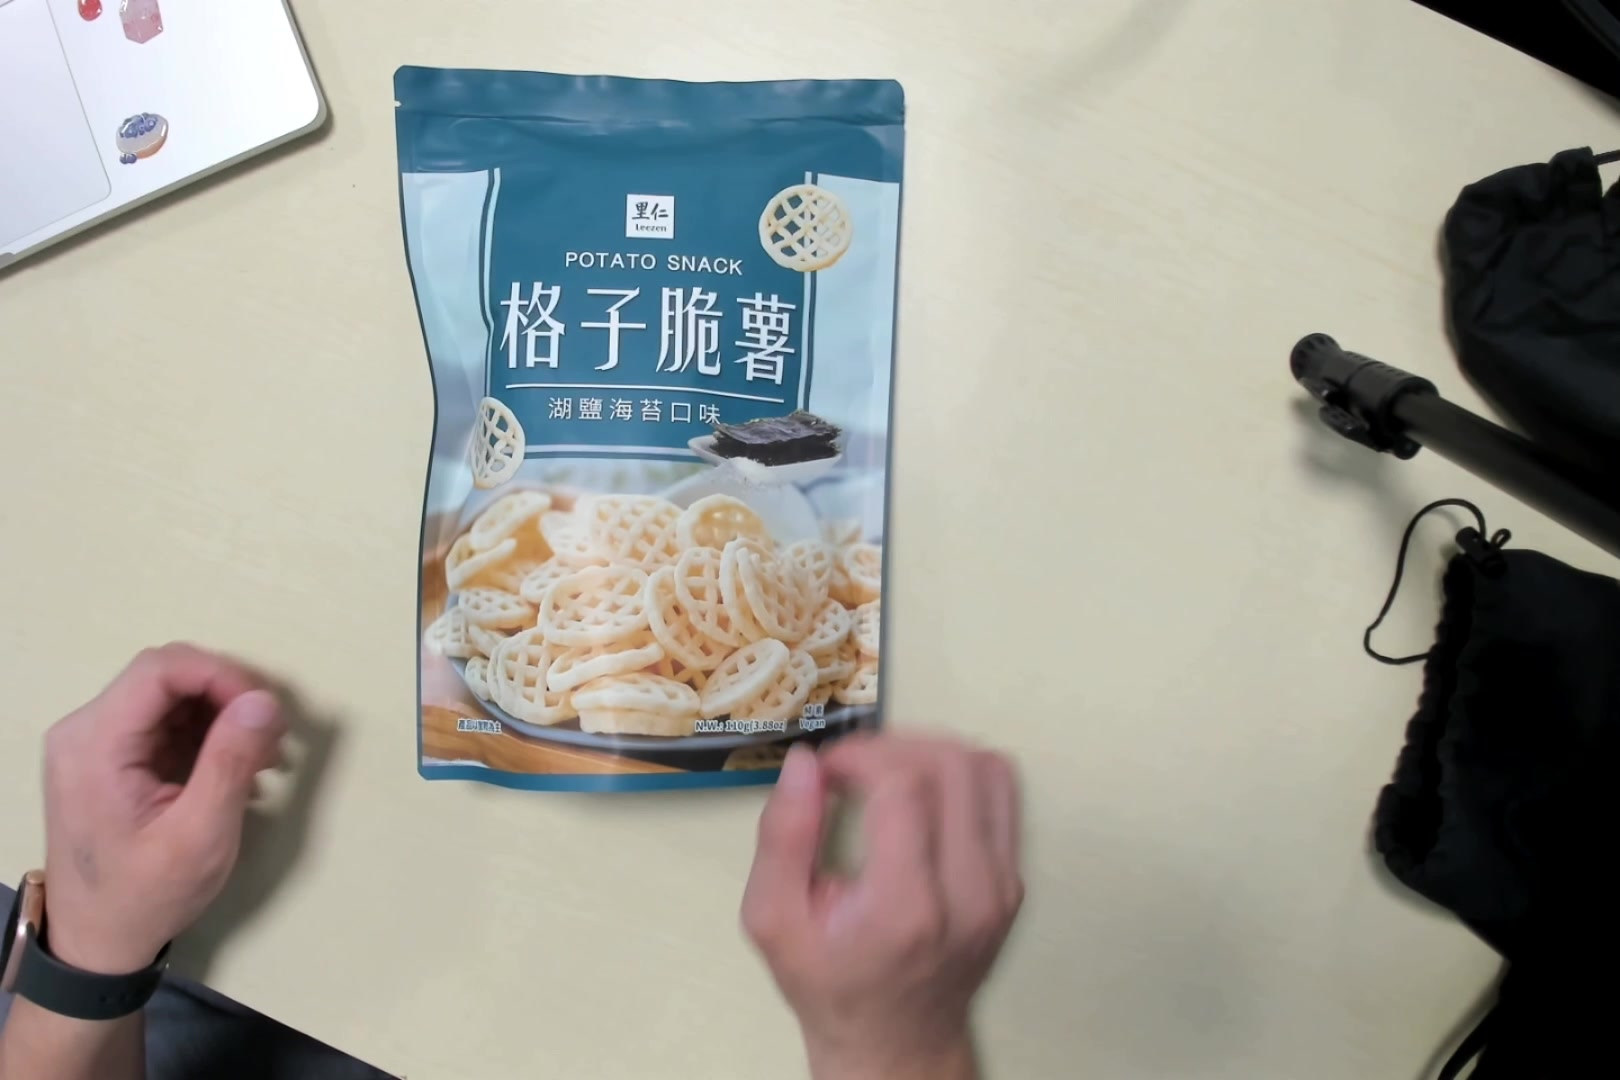PotatoChipsKeropok_100-199g_NonHalal_NonHealthy: (387, 67, 880, 796)
